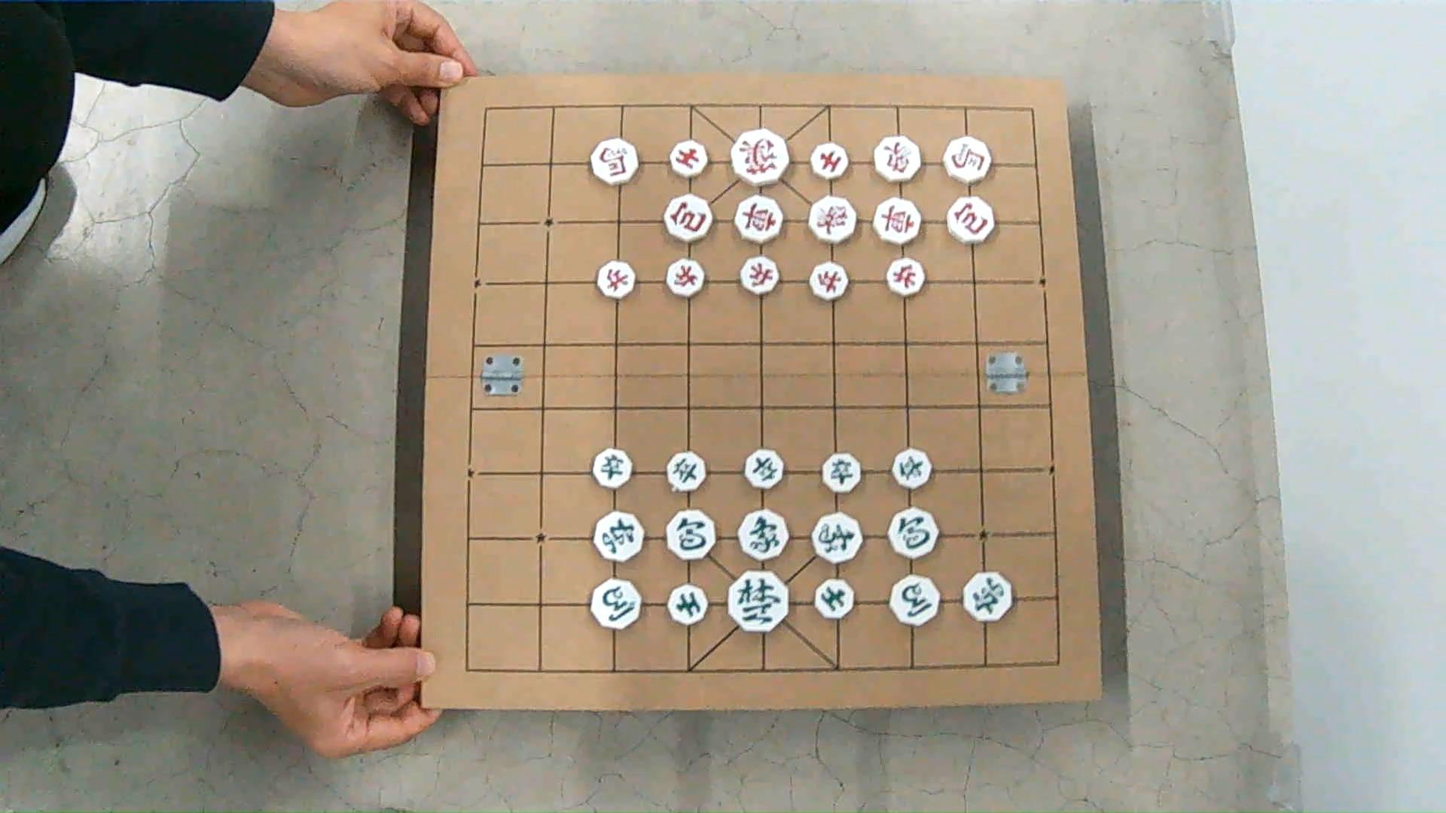cha_green: (593, 511, 643, 562), (962, 572, 1011, 622)
cha_red: (735, 196, 782, 243), (874, 198, 921, 245)
jol_green: (592, 448, 631, 489), (822, 453, 861, 493), (892, 449, 931, 489), (666, 452, 705, 492), (745, 449, 783, 489)
jol_red: (886, 257, 925, 296), (740, 256, 778, 295), (596, 262, 635, 299), (810, 262, 847, 300), (667, 259, 704, 297)
ma_green: (591, 579, 640, 629), (890, 576, 938, 626)
ma_red: (943, 136, 990, 184), (590, 139, 638, 185)
po_green: (666, 510, 715, 561), (889, 509, 938, 558)
po_red: (664, 195, 712, 242), (947, 196, 993, 243)
sa_green: (668, 584, 707, 625), (815, 579, 853, 620)
sa_red: (670, 140, 708, 178), (811, 143, 849, 180)
sang_green: (738, 510, 789, 561), (812, 513, 862, 563)
sang_red: (808, 196, 856, 243), (874, 136, 920, 181)
wang_green: (728, 570, 789, 632)
wang_red: (732, 129, 789, 185)
